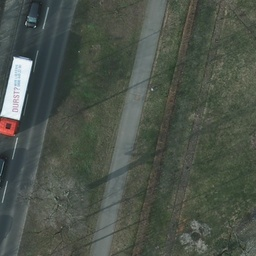car: (23, 1, 40, 31)
